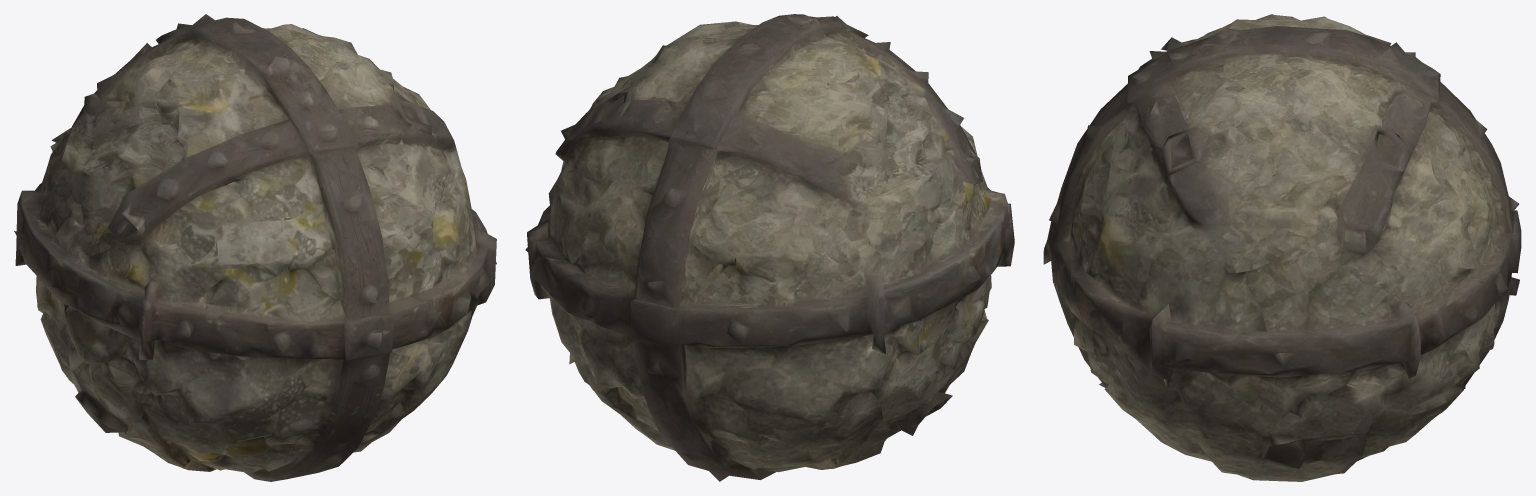
The model's file is tripo_boulder.glb.
3 renders of one model, left to right at view 1: azimuth 30°, elevation 25°; view 2: azimuth 150°, elevation 25°; view 3: azimuth 270°, elevation 25°, orthographic.
Visible parts, largest first — view 1: tripo_node_0c7d1e1e-ac87-4abf-9588-29f7b740ba0a; view 2: tripo_node_0c7d1e1e-ac87-4abf-9588-29f7b740ba0a; view 3: tripo_node_0c7d1e1e-ac87-4abf-9588-29f7b740ba0a.
Part boxes in pixels (left/top/right/bottom): tripo_node_0c7d1e1e-ac87-4abf-9588-29f7b740ba0a: left=14, top=14, right=496, bottom=481; tripo_node_0c7d1e1e-ac87-4abf-9588-29f7b740ba0a: left=525, top=14, right=1014, bottom=481; tripo_node_0c7d1e1e-ac87-4abf-9588-29f7b740ba0a: left=1043, top=14, right=1521, bottom=481.
Bounding box in the file's own units: 1 × 0.9785 × 0.9829.
Materials: 1 (1 with a texture image).
